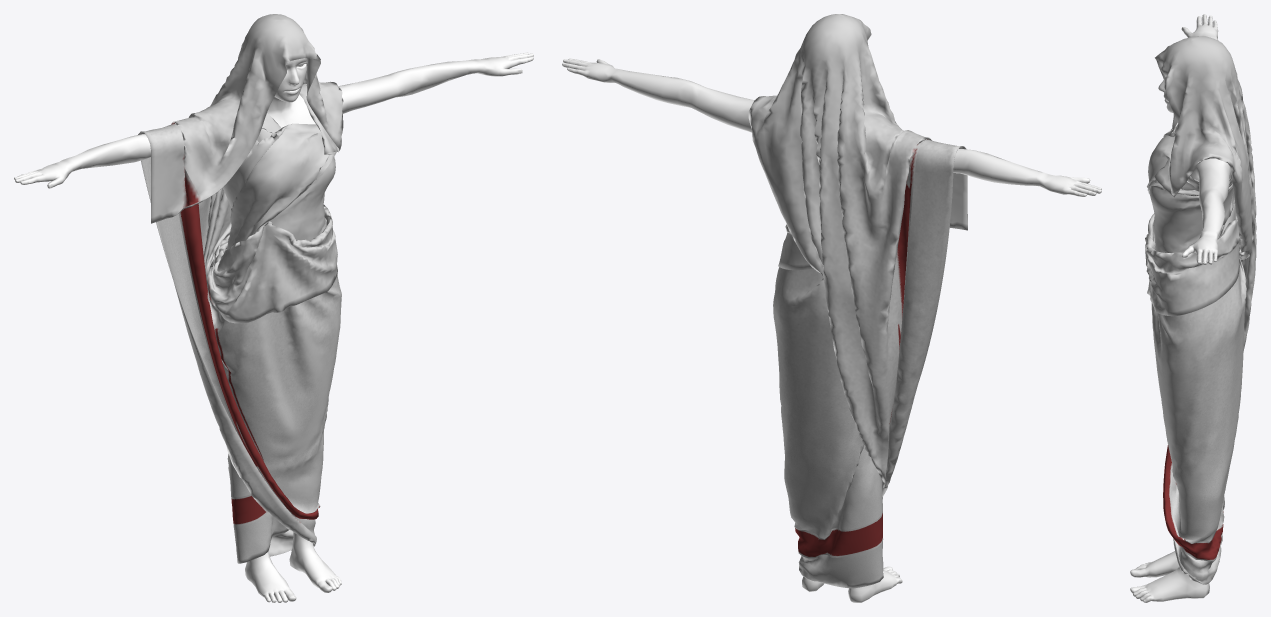
File: sponsor_character01.fbx
3 views of the same model, side by side, from view 1: azimuth 30°, elevation 25°; view 2: azimuth 150°, elevation 25°; view 3: azimuth 270°, elevation 25° (orthographic). The views are drawn at different scales.
Visible parts, largest first — view 1: sponsor_clothes01_low, CC_Base_Body; view 2: sponsor_clothes01_low, CC_Base_Body; view 3: sponsor_clothes01_low, CC_Base_Body.
Boxes of the visible parts, x1=… form: sponsor_clothes01_low: x1=138, y1=14, x2=343, y2=563; CC_Base_Body: x1=14, y1=52, x2=533, y2=602; sponsor_clothes01_low: x1=748, y1=14, x2=967, y2=588; CC_Base_Body: x1=562, y1=58, x2=1101, y2=602; sponsor_clothes01_low: x1=1145, y1=36, x2=1256, y2=584; CC_Base_Body: x1=1130, y1=14, x2=1231, y2=602.
Bounding box in the file's own units: 179 × 184 × 38.6.
